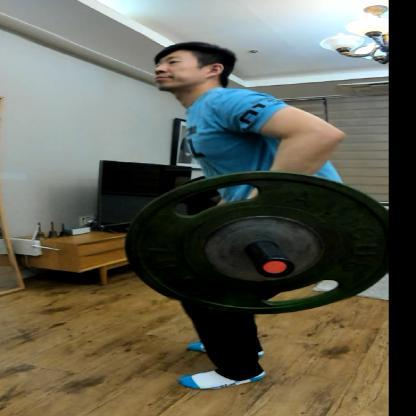Barbell: (250, 256, 303, 282)
